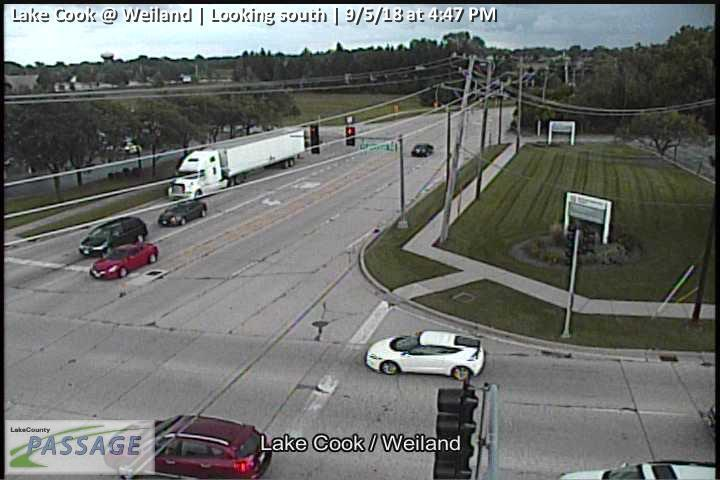SUV: (101, 414, 273, 480), (78, 216, 148, 256)
Sedan: (364, 328, 484, 380), (87, 242, 158, 279), (157, 202, 208, 225), (411, 143, 433, 157)
Truck: (163, 127, 307, 201)
